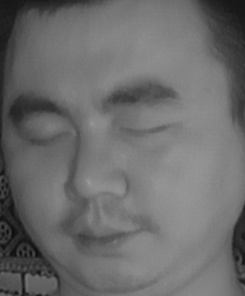blink: (118, 110, 172, 148), (20, 120, 71, 156)
mouth: (65, 211, 145, 261)
